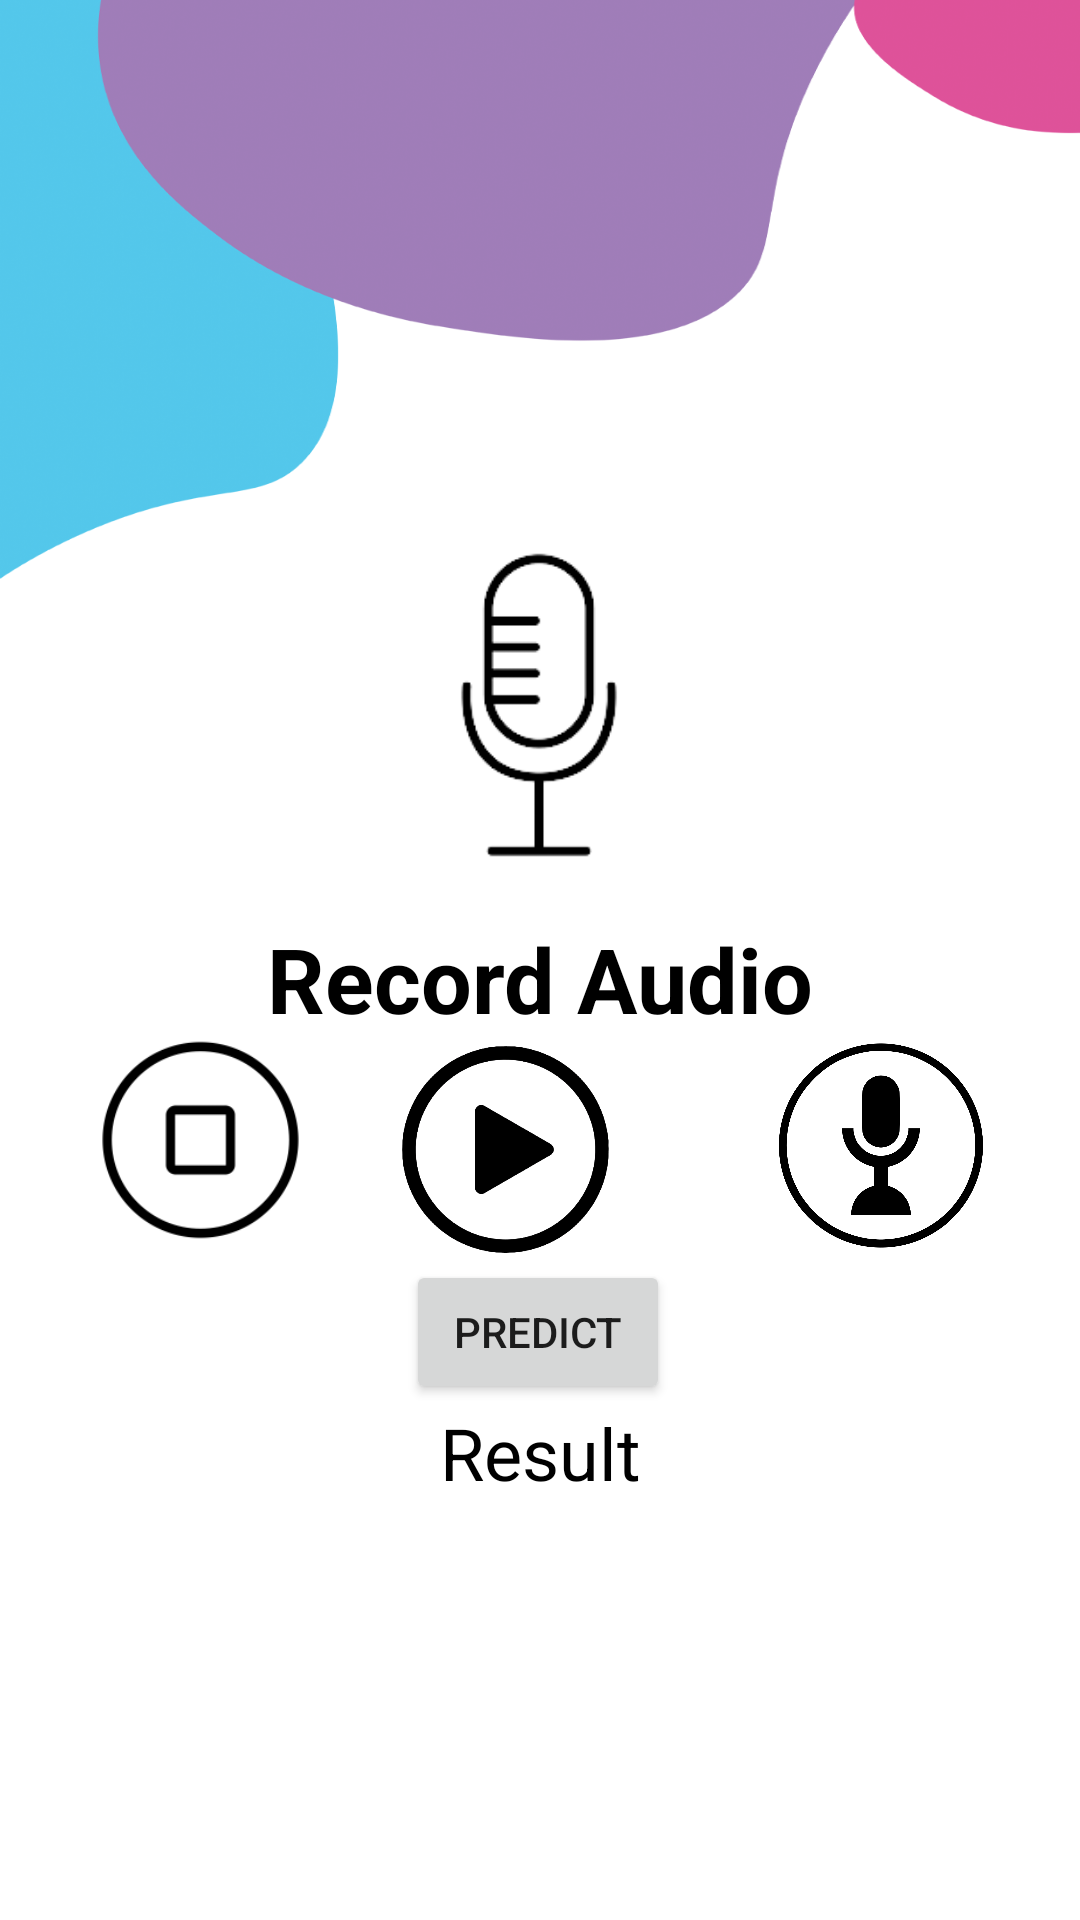

Point at icon controls on the screen. Image size 1080px×1920px, points as [x,y].
mic: [539,705]
playbutton: [505,1149]
stopbutton: [200,1140]
